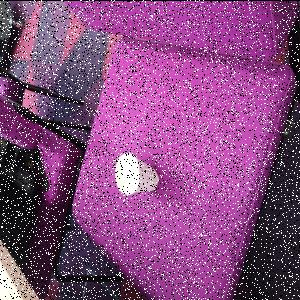Cup: (116, 153, 162, 197)
